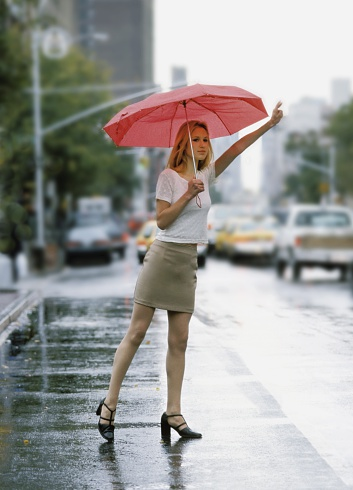em pe: (111, 90, 242, 441)
